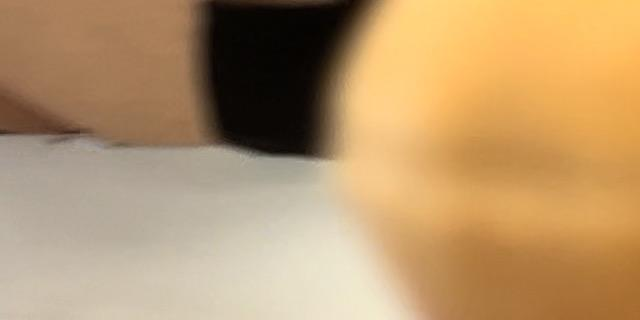burger: (310, 0, 640, 320)
